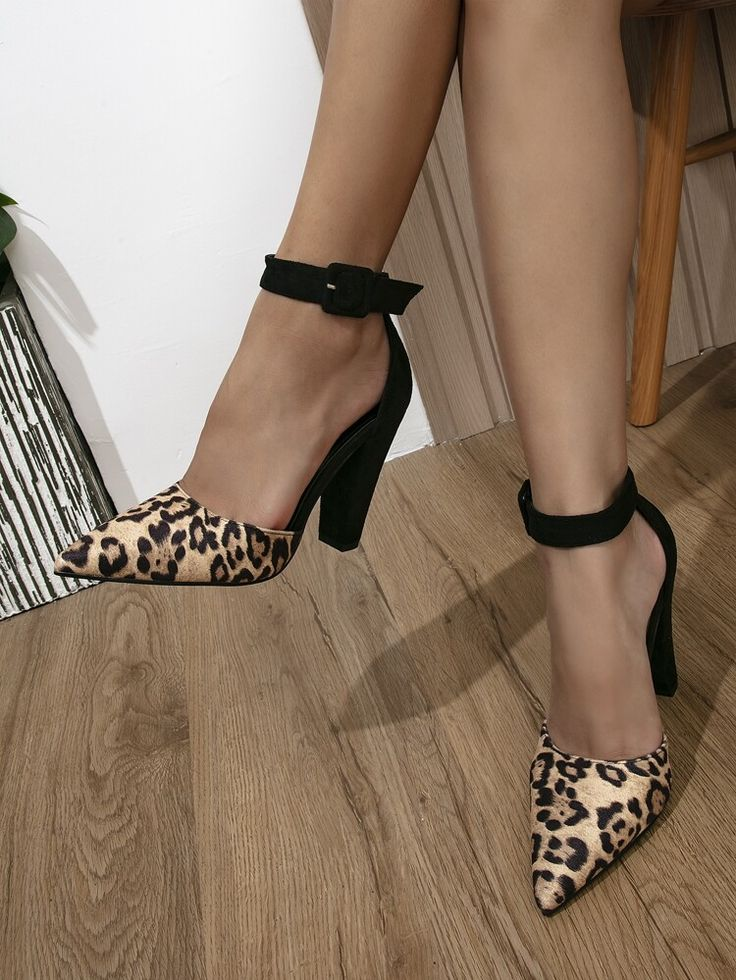gamuza: (54, 474, 679, 913)
